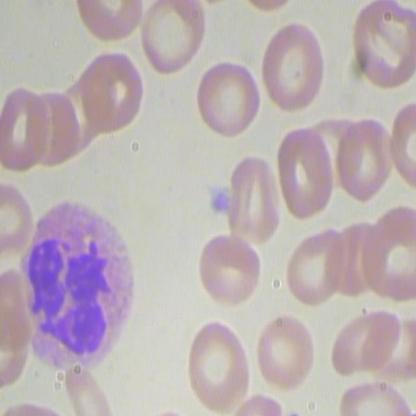Platelets: (209, 181, 232, 218)
RBC: (255, 15, 330, 119), (185, 318, 251, 415), (190, 58, 261, 145), (270, 127, 337, 219), (192, 232, 267, 314), (78, 45, 144, 138), (348, 1, 415, 92), (132, 1, 209, 77), (283, 224, 350, 308), (251, 312, 320, 393), (330, 308, 405, 381), (337, 116, 398, 204), (1, 83, 55, 178), (224, 154, 279, 245)
WBC: (15, 197, 145, 381)
